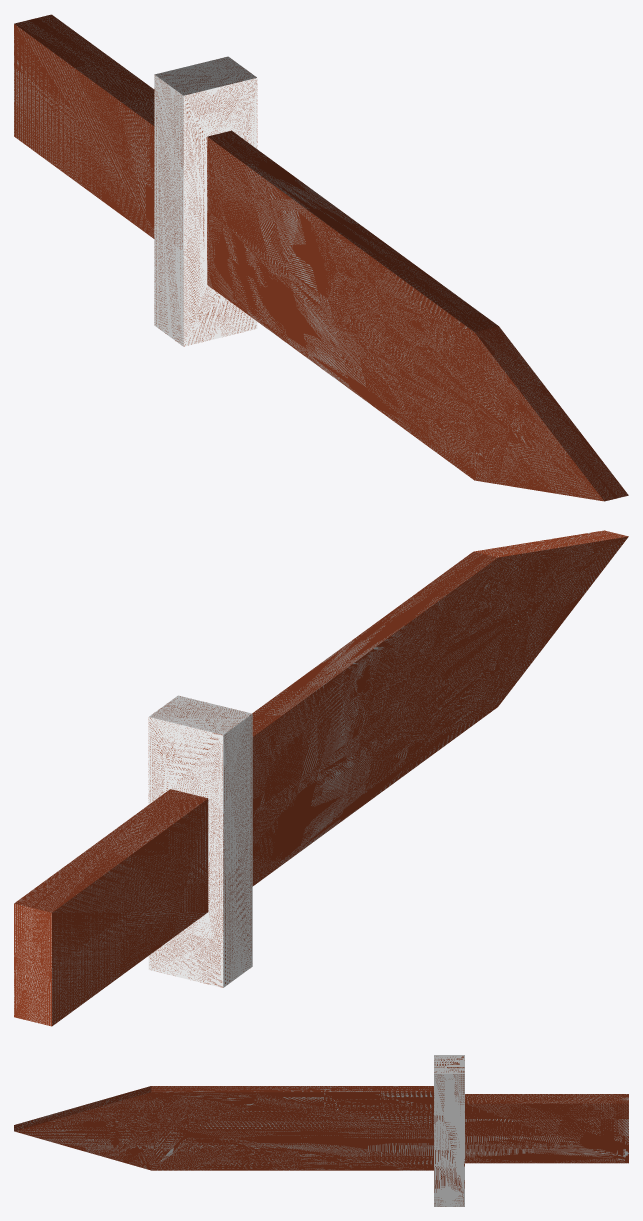
File: model_align.obj
3 renders of one model, top to bottom at view 1: azimuth 30°, elevation 25°; view 2: azimuth 150°, elevation 25°; view 3: azimuth 270°, elevation 25°, orthographic. The views are drawn at different scales.
Visible parts, largest first — view 1: mesh1_mesh1-geometry; view 2: mesh1_mesh1-geometry; view 3: mesh1_mesh1-geometry.
Part boxes in pixels (x1=…): mesh1_mesh1-geometry: x1=14, y1=14, x2=628, y2=501; mesh1_mesh1-geometry: x1=14, y1=530, x2=628, y2=1026; mesh1_mesh1-geometry: x1=14, y1=1055, x2=628, y2=1206.
Size of the model in its own units: 0.0169 by 0.0548 by 0.2301.
